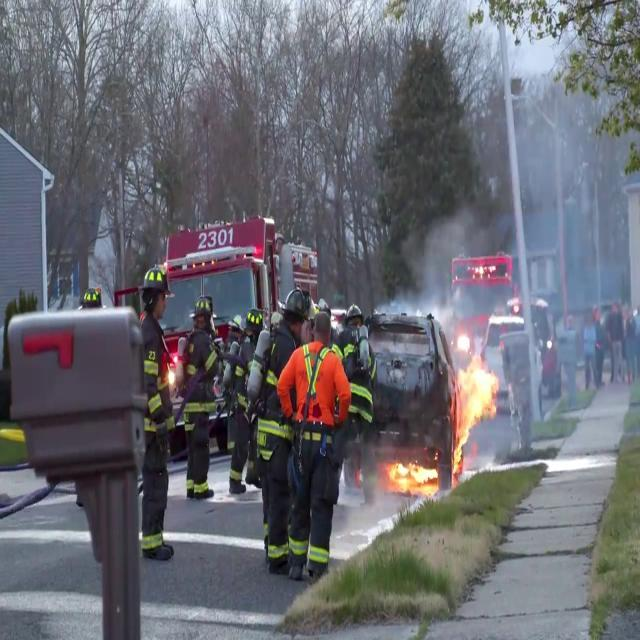Fire: (450, 342, 502, 479), (384, 452, 438, 499)
Smoke: (408, 20, 640, 370)
